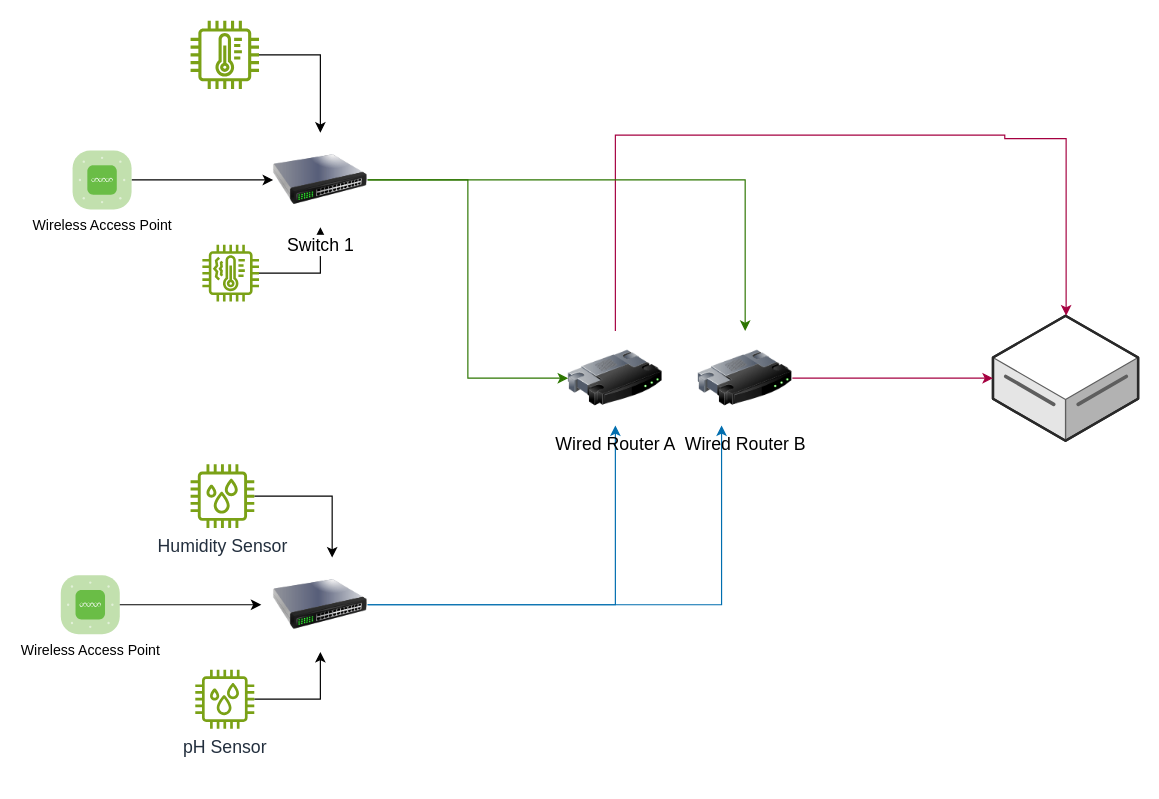
Image size: 1159x799. Some labels were removed from this diagram. Here are the shapes that lost their labels. From the top down, the centre of each, then its label:
At (x=224, y=54): "Temperature Sensor".
At (x=230, y=272): "Salinity Sensor".
At (x=1065, y=377): "Data Server".
At (x=320, y=604): "Switch 2".
